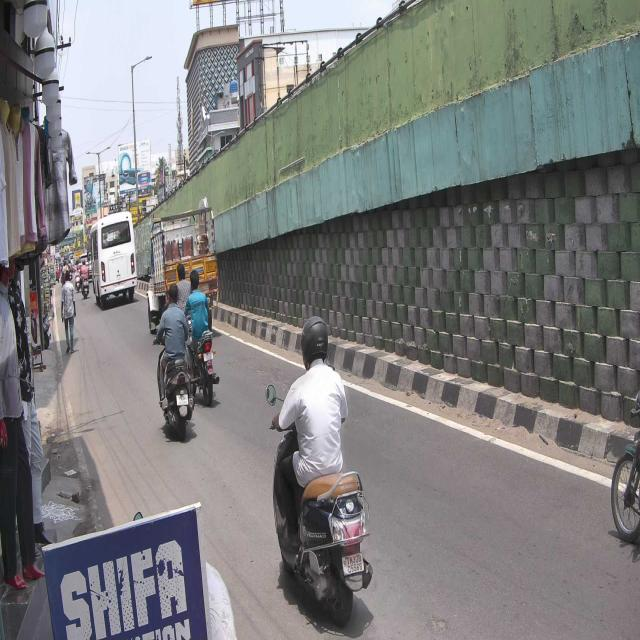single_rider: (266, 313, 374, 628), (152, 282, 195, 442)
